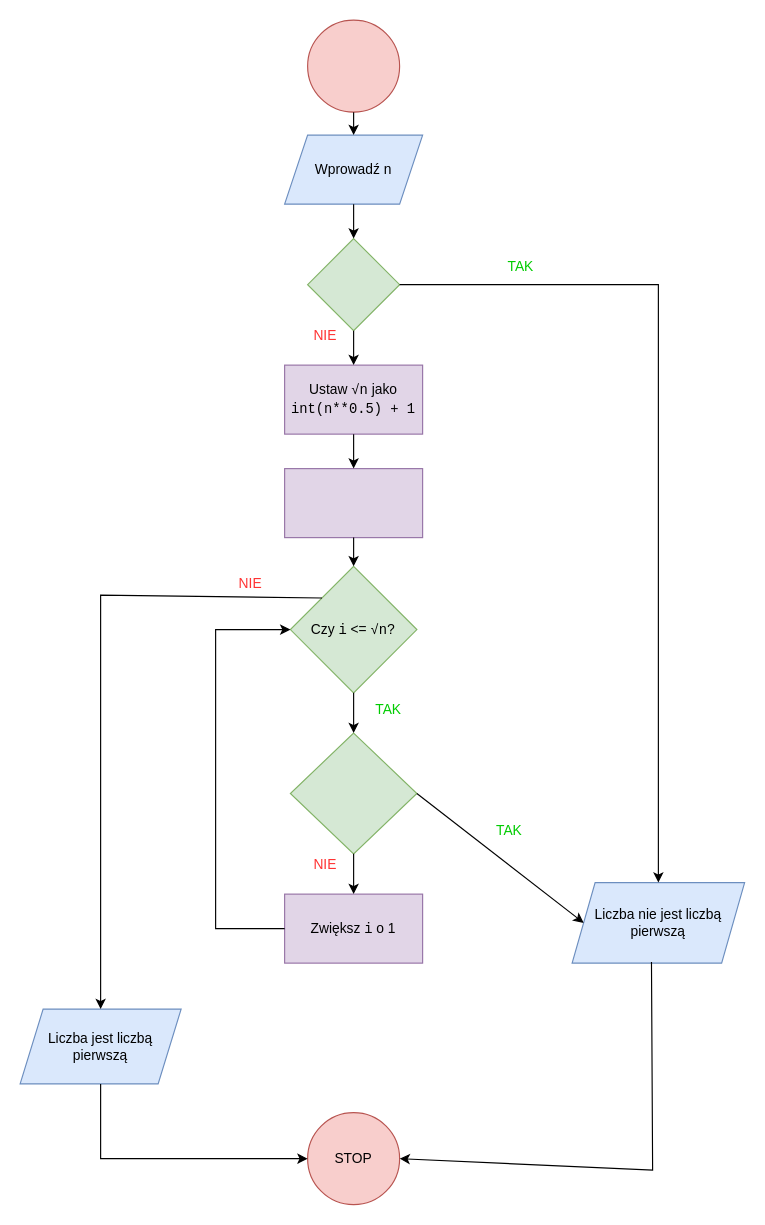
Some shapes in this 765 by 1225 pixel diagram are drawn without their labels. The shapes that lost their labels are listed below. From the top down, each one's box as (x1, y1, x2, y2) in pixels, then its label:
(306, 19, 400, 112): START
(306, 237, 400, 331): Czy n <= 1?
(283, 467, 423, 538): Ustaw i = 2
(289, 732, 417, 854): Czy n%i == 0?
